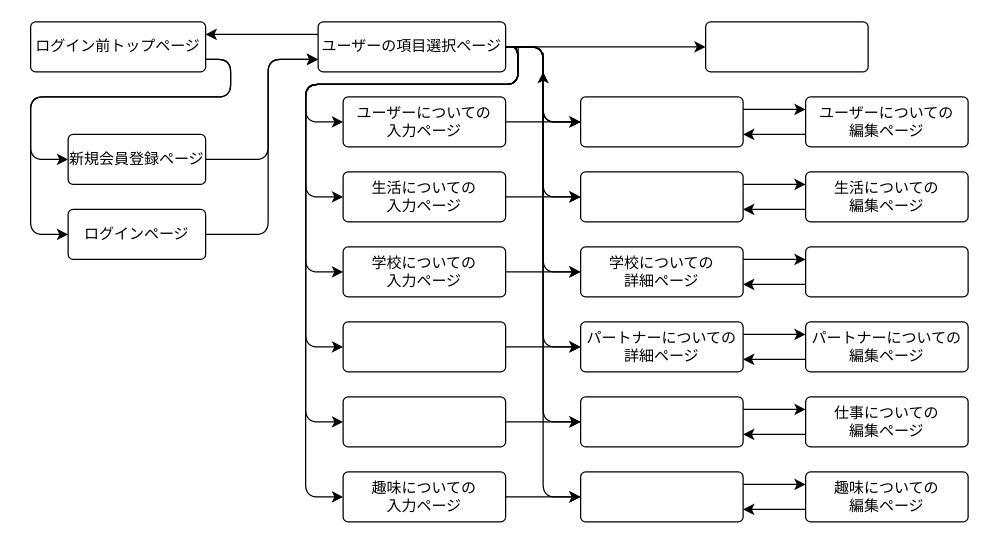
Some shapes in this 990 by 544 pixel diagram are drawn without their labels. Each missing label, with the centre of its shape:
パートナーについての 入力ページ: (424,346)
プレビューページ: (786,46)
ユーザーについての 詳細ページ: (661,121)
仕事についての 入力ページ: (424,421)
仕事についての 詳細ページ: (661,421)
学校についての 編集ページ: (886,271)
生活についての 詳細ページ: (661,196)
趣味についての 詳細ページ: (661,496)
